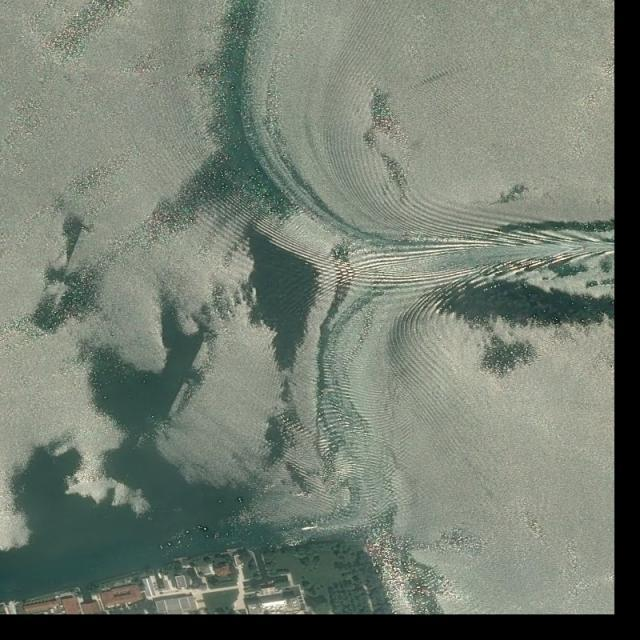ship: (301, 525, 319, 531)
